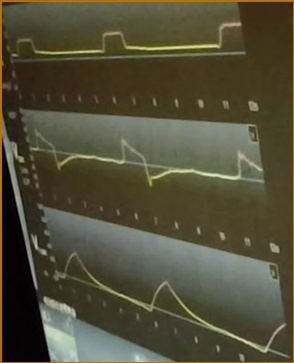Accumulation Flow: (30, 125, 263, 187)
Volume: (55, 249, 285, 353)
